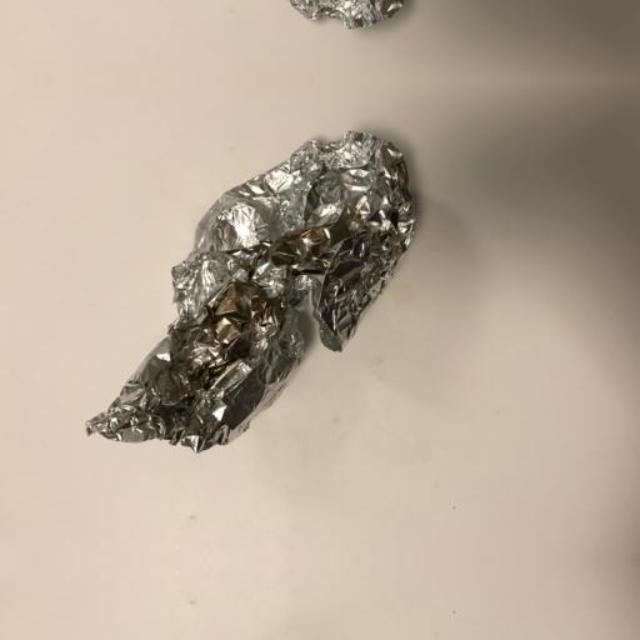Metal: (69, 122, 455, 478), (69, 0, 455, 37)
